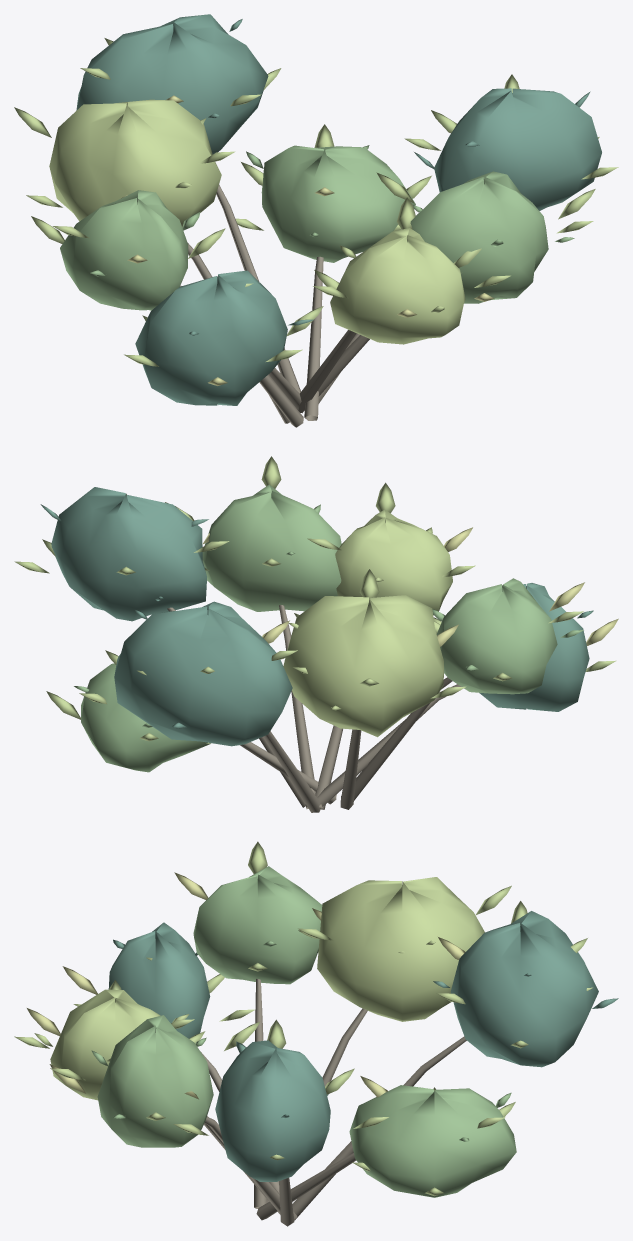
Rendered from bush_wide.glb.
3 renders of one model, top to bottom at view 1: azimuth 30°, elevation 25°; view 2: azimuth 150°, elevation 25°; view 3: azimuth 270°, elevation 25°, orthographic. The views are drawn at different scales.
Parts seen in each view (by area): view 1: bush_wide; view 2: bush_wide; view 3: bush_wide.
Boxes of the visible parts, bbox=[...] form: bush_wide: bbox=[14, 14, 618, 427]; bush_wide: bbox=[14, 456, 618, 812]; bush_wide: bbox=[14, 841, 618, 1226].
Bounding box in the file's own units: 3.22 × 1.68 × 3.12.
